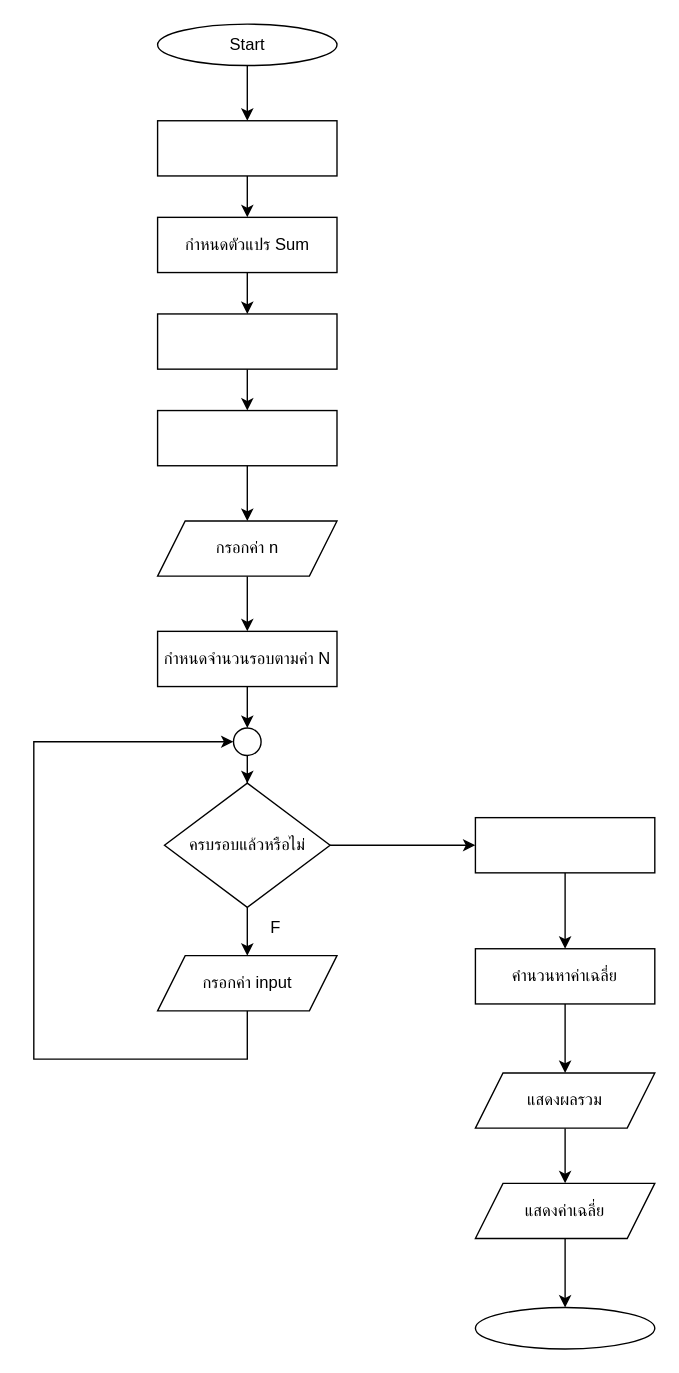
Image size: 679x1373. Some labels were removed from this diagram. Here are the shapes that lost their labels. From the top down, the centre of each, then its label:
(x=246, y=147): กำหนดตัวแปร Avg
(x=246, y=341): กำหนดตัวแปร n
(x=246, y=437): กำหนดตัวแปร input
(x=564, y=844): คำนวนหาผลรวมทั้งหมด
(x=564, y=1327): End
